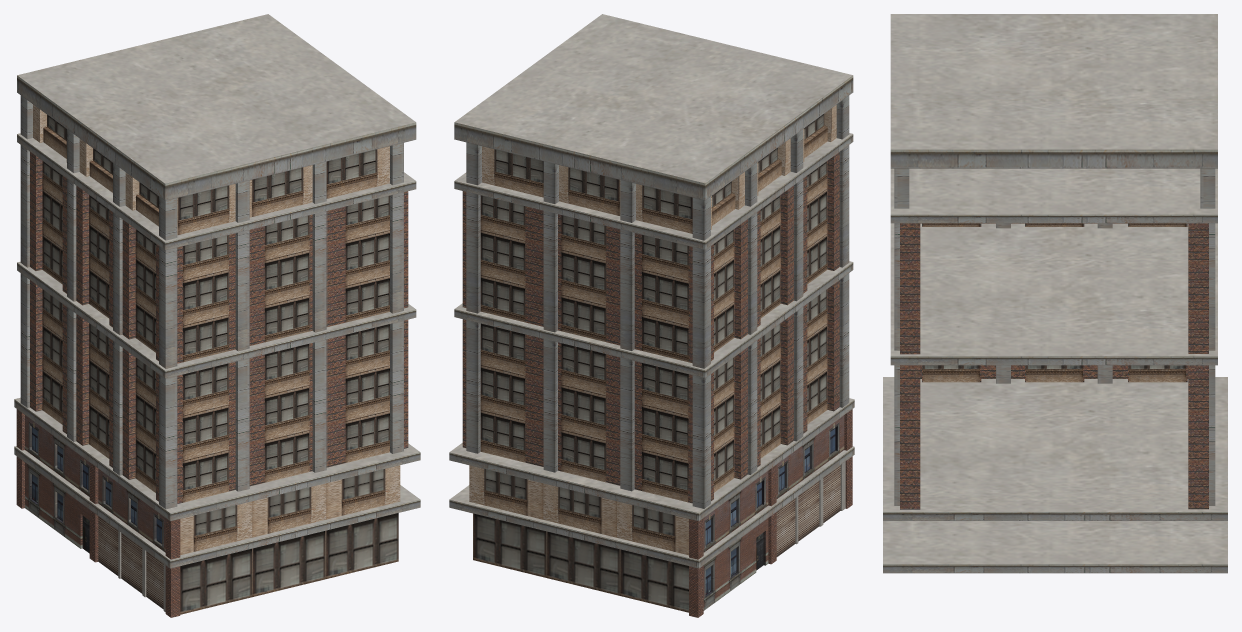
Rendered from Build_RedBrick_Cement.fbx.
3 renders of one model, left to right at view 1: azimuth 30°, elevation 25°; view 2: azimuth 150°, elevation 25°; view 3: azimuth 270°, elevation 25°, orthographic. The views are drawn at different scales.
Visible parts, largest first — view 1: Build_RedBrick_Cement; view 2: Build_RedBrick_Cement; view 3: Build_RedBrick_Cement.
Boxes of the visible parts, x1,y1,x2,y2 form: Build_RedBrick_Cement: (14, 14, 420, 617); Build_RedBrick_Cement: (449, 14, 854, 617); Build_RedBrick_Cement: (883, 14, 1227, 573).
Bounding box in the file's own units: 431 × 707 × 462.
1 material, 1 textured.
